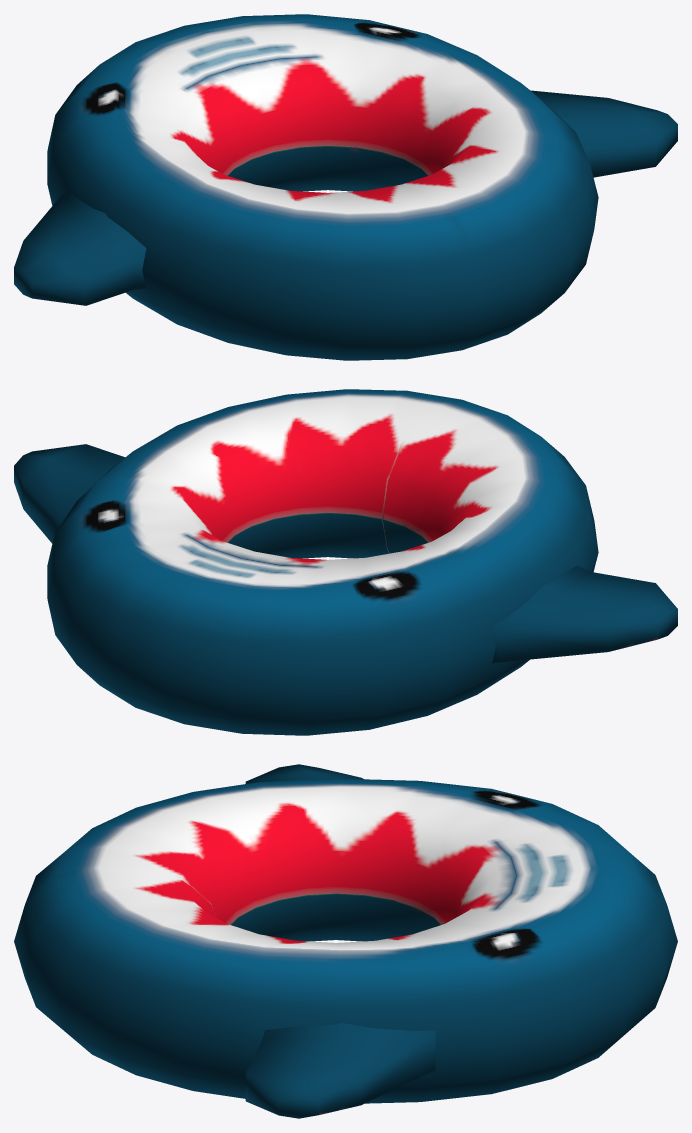
The model's file is SHARK.fbx.
The picture shows the model from 3 angles, top to bottom: view 1: azimuth 30°, elevation 25°; view 2: azimuth 150°, elevation 25°; view 3: azimuth 270°, elevation 25°; orthographic projection. The views are drawn at different scales.
Visible parts, largest first — view 1: FLOAT_SHARK; view 2: FLOAT_SHARK; view 3: FLOAT_SHARK.
Boxes of the visible parts, left/top/right/bottom form: FLOAT_SHARK: left=14, top=14, right=677, bottom=360; FLOAT_SHARK: left=14, top=389, right=677, bottom=735; FLOAT_SHARK: left=14, top=764, right=677, bottom=1118.
Size of the model in its own units: 241 by 50 by 205.
